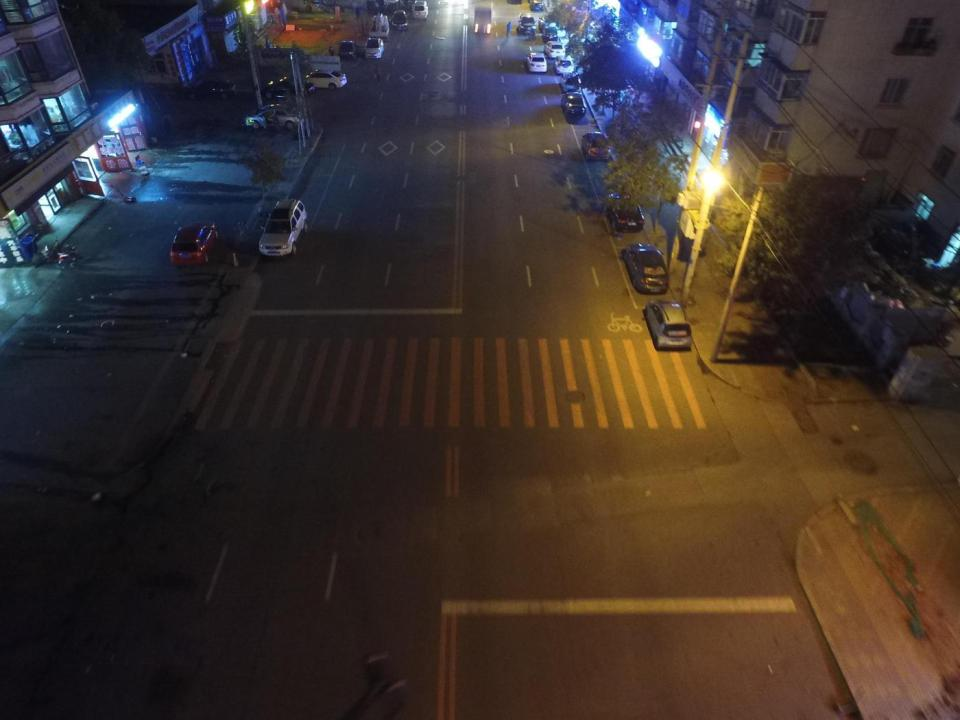bus: (475, 0, 494, 36)
car: (258, 196, 308, 259), (643, 299, 693, 349), (624, 243, 667, 293), (171, 220, 214, 268), (604, 191, 644, 232), (244, 105, 300, 130), (182, 80, 238, 99), (582, 131, 610, 160), (306, 70, 349, 88), (265, 80, 302, 98), (560, 93, 586, 118), (525, 50, 547, 72), (518, 12, 538, 35), (557, 72, 578, 92), (391, 10, 409, 32), (366, 38, 384, 59), (337, 40, 358, 57), (545, 40, 564, 57), (555, 56, 572, 74), (542, 25, 558, 42), (539, 16, 557, 31), (529, 0, 546, 12)
truck: (372, 13, 390, 42)
van: (412, 0, 430, 21)
